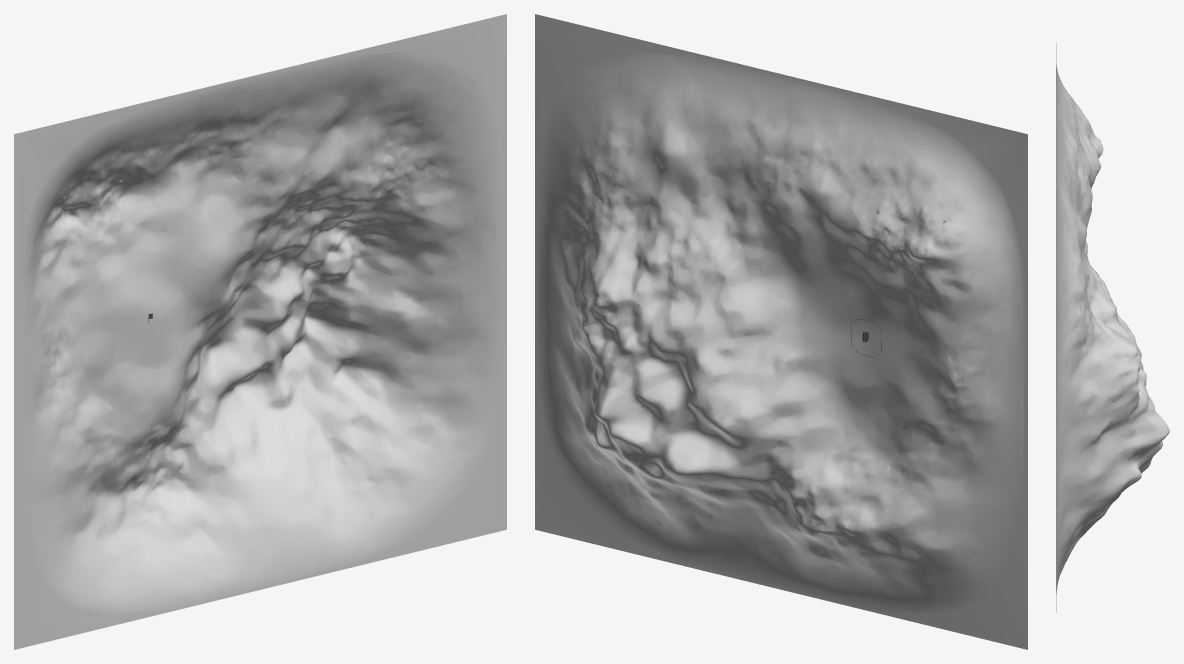
File: Bosque_caseta_final.fbx
3 views of the same model, side by side, from view 1: azimuth 30°, elevation 25°; view 2: azimuth 150°, elevation 25°; view 3: azimuth 270°, elevation 25° (orthographic). The views are drawn at different scales.
Visible parts, largest first — view 1: suelo; view 2: suelo; view 3: suelo.
Part boxes in pixels (box(x1,y1,x2,y2)): suelo: box(14, 14, 506, 649); suelo: box(535, 14, 1027, 649); suelo: box(1056, 43, 1169, 612).
Size of the model in its own units: 60154 by 60154 by 14307.
Materials: 11 (11 with a texture image).
